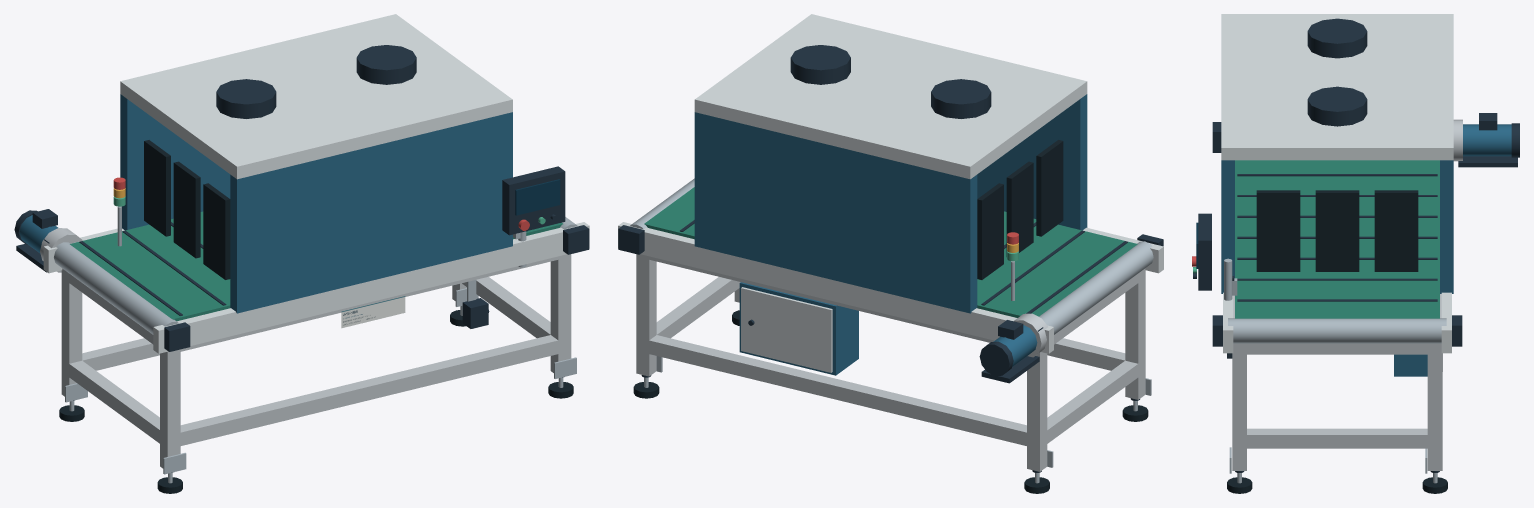
Rendered from uv-curer.glb.
3 views of the same model, side by side, from view 1: azimuth 30°, elevation 25°; view 2: azimuth 150°, elevation 25°; view 3: azimuth 270°, elevation 25° (orthographic).
Parts seen in each view (by area): view 1: TunnelWall_76, TunnelRoof_77, ConveyorSide_47, Extrusion_22, BeltTop_54, TunnelWall_75, EndRoller_48, Extrusion_24, PanelBack_32, EntryCurtain_81, EntryCurtain_82, EntryCurtain_80 (+15 smaller); view 2: TunnelWall_75, TunnelRoof_77, BeltTop_54, ConveyorSide_46, Extrusion_20, BackAccessDoor_29, TunnelWall_76, EndRoller_48, Extrusion_24, ElectricalCabinet_28, Extrusion_13, EntryCurtain_82 (+17 smaller); view 3: TunnelRoof_77, BeltTop_54, EndRoller_51, Extrusion_26, EntryCurtain_83, EntryCurtain_84, EntryCurtain_85, Extrusion_27, ExhaustFan_79, ExhaustFan_78, Extrusion_13, Extrusion_18 (+14 smaller).
Boxes of the visible parts, left/top/right/bottom form: TunnelWall_76: left=230, top=112, right=512, bottom=313; TunnelRoof_77: left=120, top=14, right=512, bottom=179; ConveyorSide_47: left=153, top=222, right=589, bottom=353; Extrusion_22: left=174, top=335, right=564, bottom=447; BeltTop_54: left=70, top=211, right=562, bottom=321; TunnelWall_75: left=120, top=94, right=230, bottom=230; EndRoller_48: left=54, top=242, right=178, bottom=334; Extrusion_24: left=65, top=360, right=159, bottom=443; PanelBack_32: left=502, top=166, right=565, bottom=235; EntryCurtain_81: left=173, top=161, right=200, bottom=258; EntryCurtain_82: left=203, top=183, right=230, bottom=279; EntryCurtain_80: left=144, top=140, right=170, bottom=236; TunnelWall_75: left=694, top=112, right=977, bottom=313; TunnelRoof_77: left=694, top=14, right=1087, bottom=179; BeltTop_54: left=644, top=187, right=1137, bottom=317; ConveyorSide_46: left=618, top=222, right=1053, bottom=353; Extrusion_20: left=642, top=335, right=1033, bottom=447; BackAccessDoor_29: left=741, top=287, right=832, bottom=372; TunnelWall_76: left=977, top=94, right=1087, bottom=230; EndRoller_48: left=1039, top=241, right=1153, bottom=334; Extrusion_24: left=1043, top=360, right=1141, bottom=446; ElectricalCabinet_28: left=739, top=282, right=858, bottom=375; Extrusion_13: left=636, top=254, right=656, bottom=376; EntryCurtain_82: left=1036, top=140, right=1063, bottom=236; TunnelRoof_77: left=1221, top=14, right=1453, bottom=160; BeltTop_54: left=1235, top=160, right=1439, bottom=318; EndRoller_51: left=1228, top=318, right=1446, bottom=343; Extrusion_26: left=1239, top=428, right=1435, bottom=448; EntryCurtain_83: left=1374, top=190, right=1418, bottom=271; EntryCurtain_84: left=1315, top=190, right=1359, bottom=271; EntryCurtain_85: left=1256, top=190, right=1300, bottom=271; Extrusion_27: left=1239, top=343, right=1435, bottom=354; ExhaustFan_79: left=1307, top=86, right=1367, bottom=126; ExhaustFan_78: left=1307, top=18, right=1367, bottom=58; Extrusion_13: left=1427, top=343, right=1442, bottom=470; Extrusion_18: left=1232, top=343, right=1246, bottom=470.
Size of the model in its own units: 2.15 by 1.57 by 1.42.
Materials: 13 (1 with a texture image).
